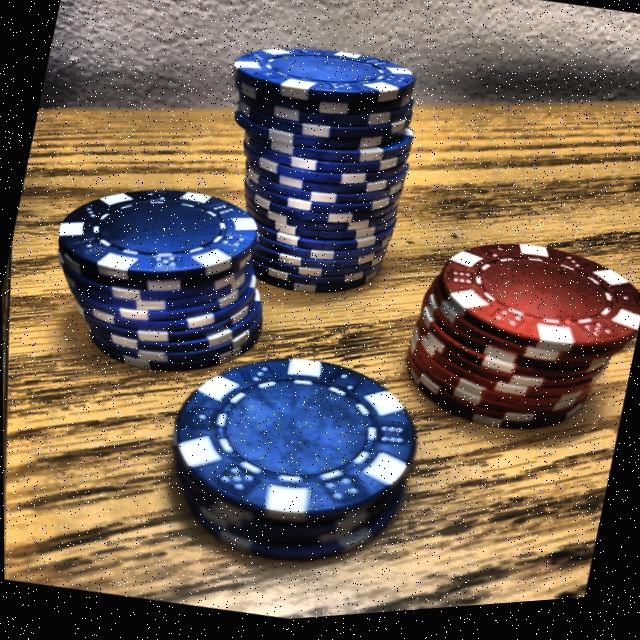Chip: (124, 315, 475, 617), (180, 17, 451, 342), (15, 132, 298, 427), (374, 196, 640, 490)
